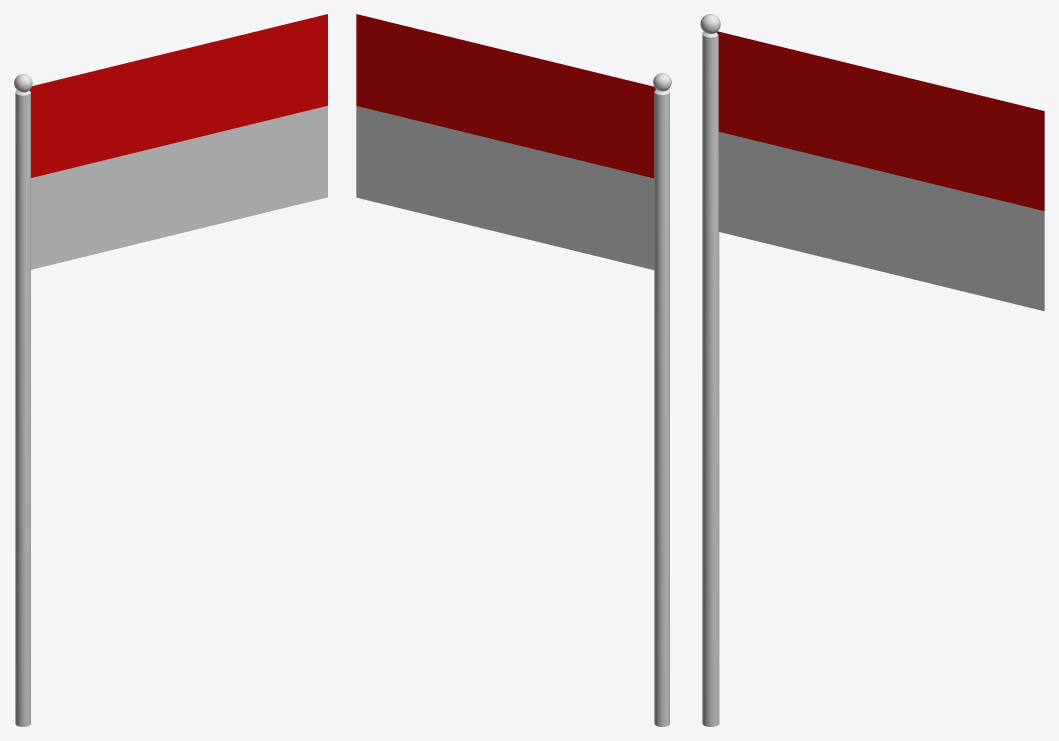
Rendered from Benderaanimasi.glb.
The picture shows the model from 3 angles, left to right: view 1: azimuth 30°, elevation 25°; view 2: azimuth 150°, elevation 25°; view 3: azimuth 330°, elevation 25°; orthographic projection. The views are drawn at different scales.
Parts seen in each view (by area): view 1: Plane, Cylinder; view 2: Plane, Cylinder; view 3: Plane, Cylinder.
Boxes of the visible parts, x1,y1,x2,y2 form: Plane: (29,14,327,269); Cylinder: (14,74,32,726); Plane: (356,14,655,269); Cylinder: (653,73,671,726); Plane: (716,31,1044,311); Cylinder: (700,14,720,726).
Size of the model in its own units: 10.18 by 20.16 by 0.524.
